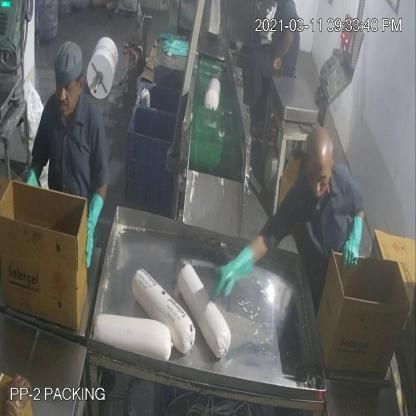glove: (206, 241, 263, 308), (78, 190, 110, 279), (340, 204, 364, 283)
no_glove: (3, 368, 37, 416), (271, 24, 299, 79)
